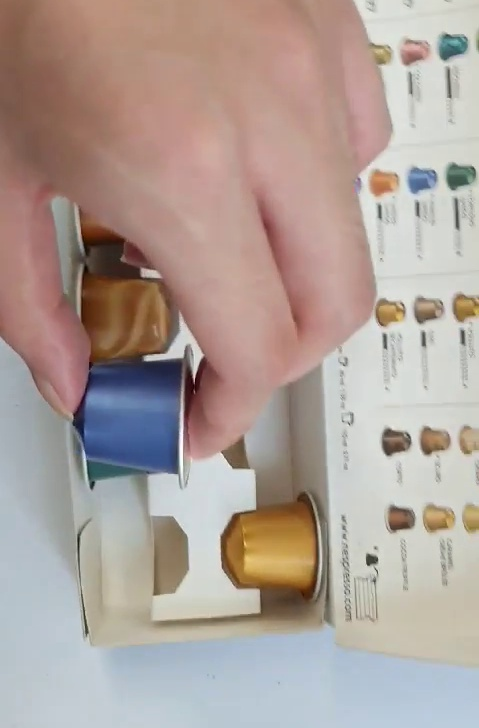capsule_7: (65, 344, 200, 489)
